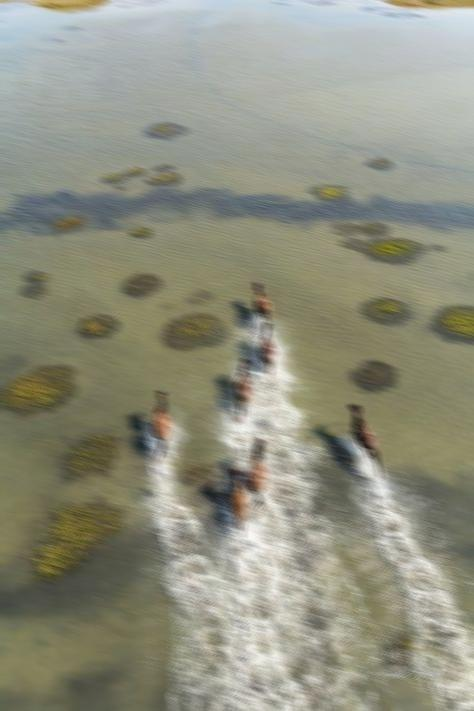horse: (348, 402, 383, 478), (244, 437, 268, 510), (150, 388, 172, 459), (228, 467, 248, 535), (232, 356, 252, 422), (258, 321, 276, 374), (252, 280, 272, 322)
